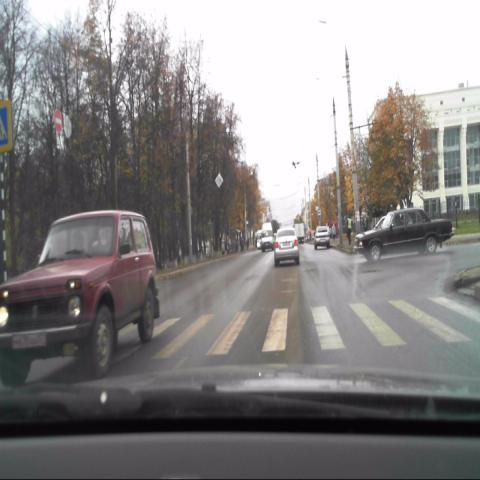3_1: (53, 109, 64, 133)
